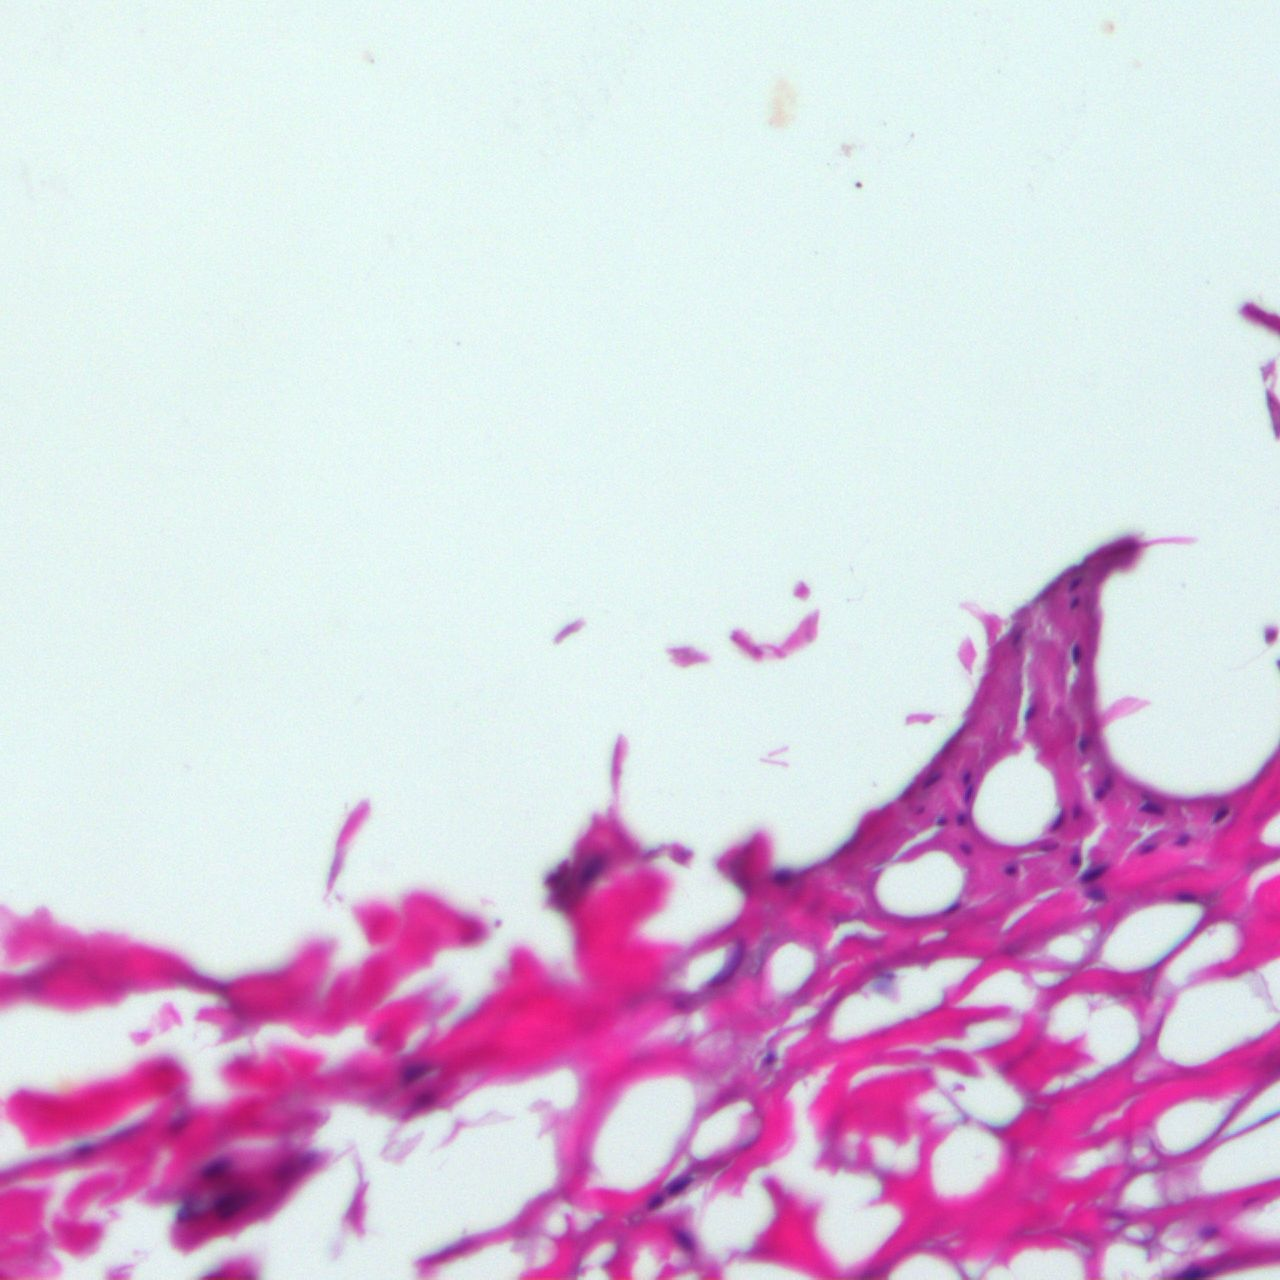dust: (763, 69, 792, 135), (840, 139, 856, 159), (1105, 18, 1116, 34), (855, 181, 863, 188)
nucleus-HE: (205, 1179, 257, 1225), (195, 1149, 234, 1187), (396, 1055, 429, 1087), (406, 1087, 437, 1117), (668, 1225, 699, 1255), (1167, 1261, 1216, 1279), (1089, 775, 1116, 802), (642, 1189, 669, 1213), (666, 1173, 692, 1198), (1078, 862, 1104, 884), (920, 768, 942, 790), (1048, 806, 1068, 831), (939, 900, 964, 919), (1208, 804, 1228, 825), (1137, 838, 1159, 857), (1198, 1221, 1218, 1240), (956, 839, 976, 858), (1020, 702, 1039, 722), (1173, 830, 1192, 849), (772, 867, 794, 884), (1084, 886, 1107, 901), (1139, 801, 1165, 813), (960, 784, 975, 803), (1175, 891, 1197, 903), (1076, 733, 1088, 753), (1065, 577, 1081, 592), (1010, 629, 1024, 646), (762, 1051, 778, 1065), (1039, 842, 1058, 852), (1071, 804, 1082, 819), (1069, 594, 1080, 610), (1071, 644, 1080, 662), (1003, 864, 1016, 876), (935, 815, 948, 826), (1070, 851, 1080, 866), (961, 771, 971, 784), (956, 812, 964, 825)
